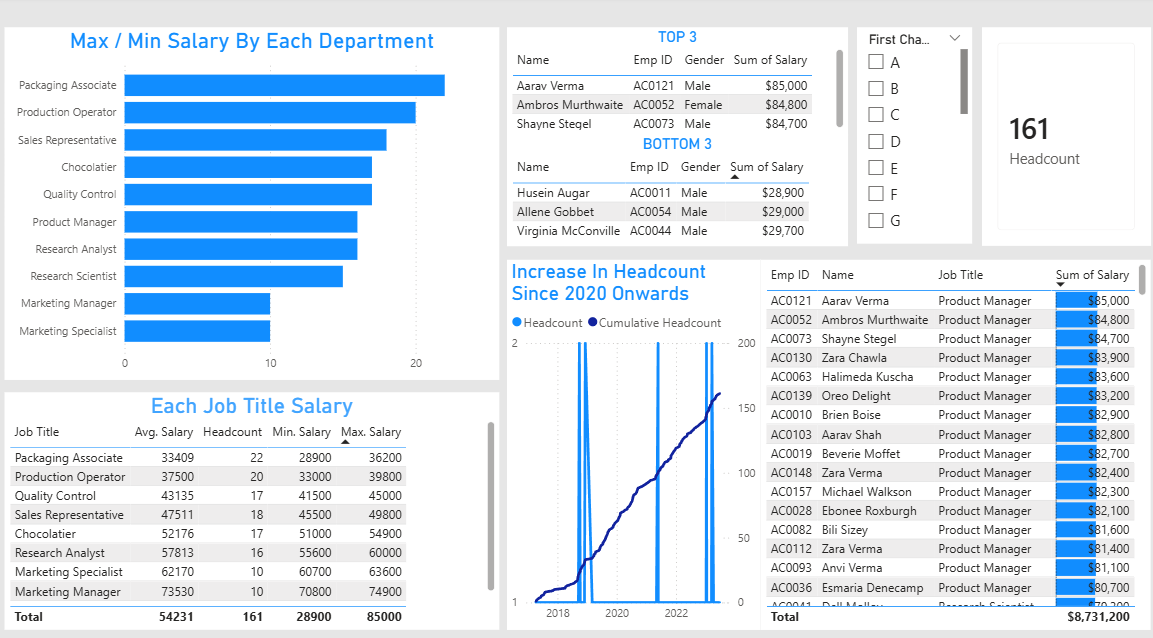

What the dashboard file says about the page in this screenshot:
{"tool":"powerbi","page":{"name":"HR-2","canvas":[1280,720],"ordinal":1},"visuals":[{"type":"tableEx","title":"Each Job Title Salary","fields":{"Values":["staff.Job Title","staff.Avg. Salary","staff.Headcount","staff.Min. Salary","staff.Max. Salary"]},"box":[8.2,435,543.4,260.7],"z":0},{"type":"clusteredBarChart","title":"Max / Min Salary By Each Department","fields":{"Category":["staff.Job Title"],"Y":["staff.Headcount"]},"box":[8.2,34.3,543.4,387],"z":1},{"type":"tableEx","title":"TOP 3","fields":{"Values":["staff.Name","staff.Emp ID","staff.Gender","Sum(staff.Salary)"]},"box":[559.9,34.3,374.6,118],"z":2},{"type":"tableEx","title":"BOTTOM 3","fields":{"Values":["staff.Name","staff.Emp ID","staff.Gender","Sum(staff.Salary)"]},"box":[559.9,152.3,374.6,122.1],"z":3},{"type":"lineChart","title":"Increase In Headcount Since 2020 Onwards","fields":{"Category":["staff.Date of Join"],"Y":["staff.Headcount"],"Y2":["staff.Cumulative Headcount"]},"box":[559.9,289.5,278.6,406.2],"z":4},{"type":"slicer","fields":{"Values":["staff.First Characters"]},"box":[944.1,34.3,126.2,237.4],"z":5},{"type":"tableEx","fields":{"Values":["staff.Emp ID","staff.Name","staff.Job Title","Sum(staff.Salary)"]},"box":[838.4,289.5,428.1,406.2],"z":6},{"type":"cardVisual","fields":{"Data":["staff.Headcount"]},"box":[1081.3,34.3,185.2,240.1],"z":7}]}

Visuals, with their boxes in screenshot pixels (x1, y1, x2, y2), scaled from the page's 1280x720 canvas onto the 1153x638 screenshot:
"Each Job Title Salary" tableEx: l=7, t=385, r=497, b=616
"Max / Min Salary By Each Department" clusteredBarChart: l=7, t=30, r=497, b=373
"TOP 3" tableEx: l=504, t=30, r=842, b=135
"BOTTOM 3" tableEx: l=504, t=135, r=842, b=243
"Increase In Headcount Since 2020 Onwards" lineChart: l=504, t=257, r=755, b=616
slicer - staff.First Characters: l=850, t=30, r=964, b=241
tableEx - staff.Emp ID x staff.Name: l=755, t=257, r=1141, b=616
cardVisual - staff.Headcount: l=974, t=30, r=1141, b=243
